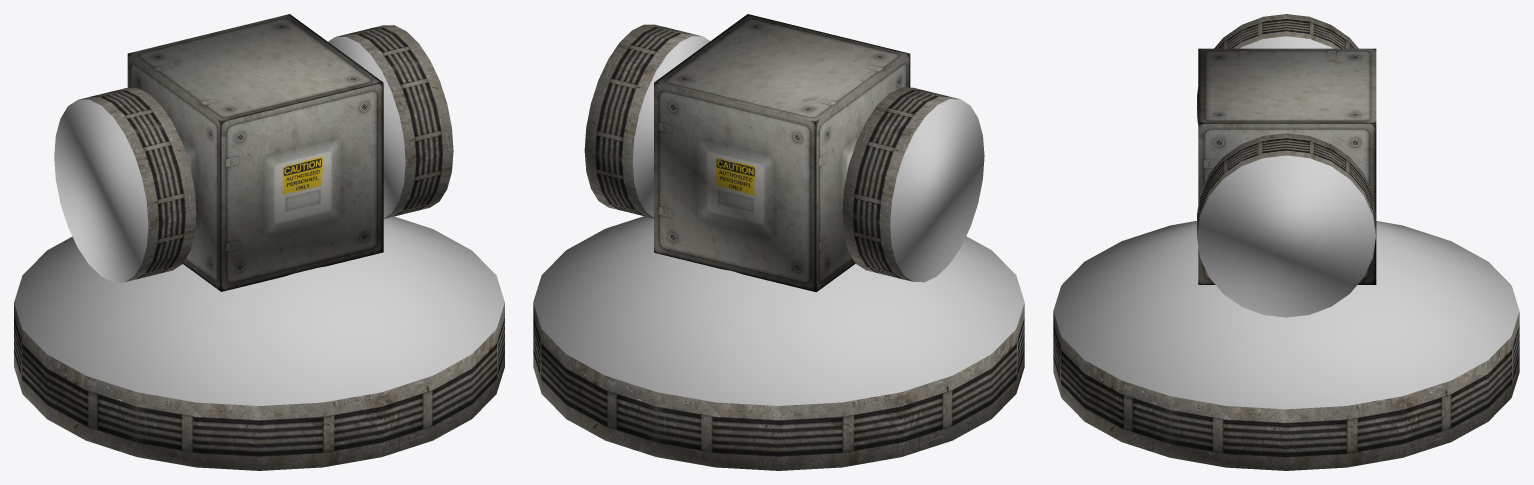
Rendered from magnet.fbx.
3 views of the same model, side by side, from view 1: azimuth 30°, elevation 25°; view 2: azimuth 150°, elevation 25°; view 3: azimuth 270°, elevation 25° (orthographic). The views are drawn at different scales.
Parts seen in each view (by area): view 1: Mesh; view 2: Mesh; view 3: Mesh.
Part boxes in pixels (left/top/right/bottom): Mesh: left=14, top=14, right=504, bottom=470; Mesh: left=533, top=14, right=1024, bottom=470; Mesh: left=1053, top=14, right=1519, bottom=470.
Size of the model in its own units: 60.69 by 40.96 by 60.69.
